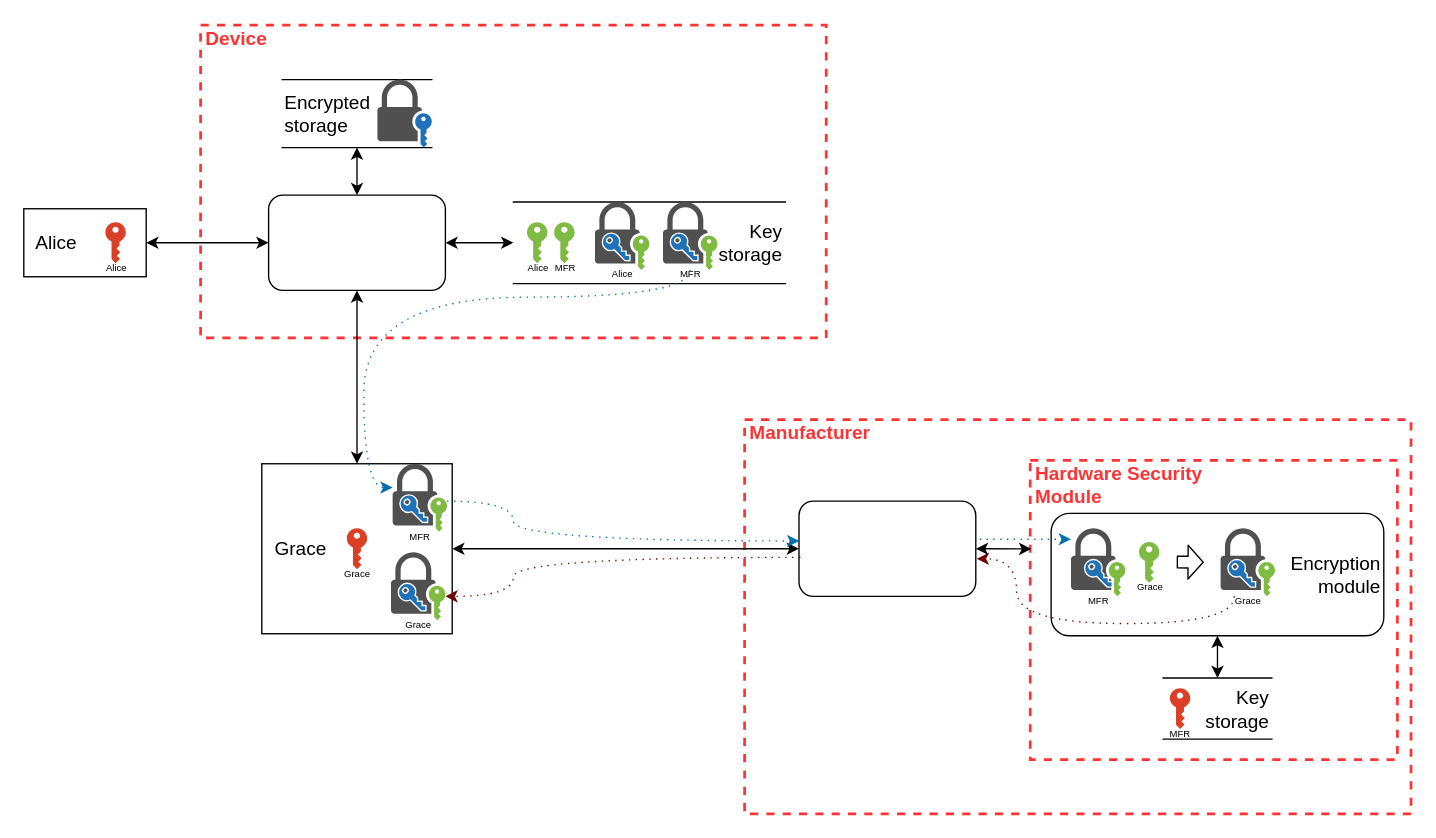
Image size: 1436x838. Some labels were removed from this diagram. The centre of each missing label's shape, as x and y in pixels:
"Access compliance department" belongs at pixel 887 548.
"Operating system" belongs at pixel 356 242.
